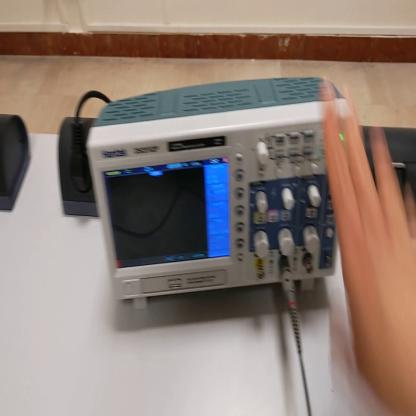hand: (319, 82, 416, 408)
oscilloscope: (80, 74, 336, 312)
socket: (56, 120, 100, 220), (1, 112, 34, 215)
